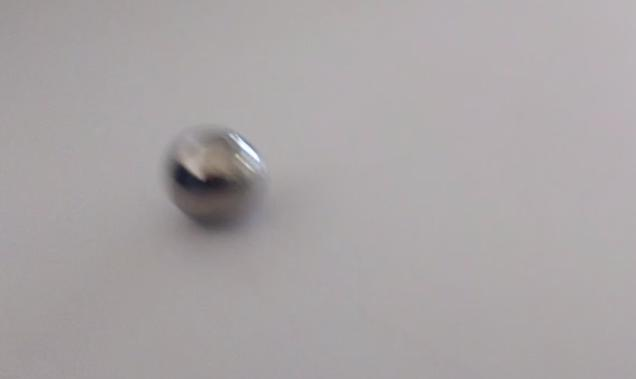steelball: (151, 115, 274, 231)
